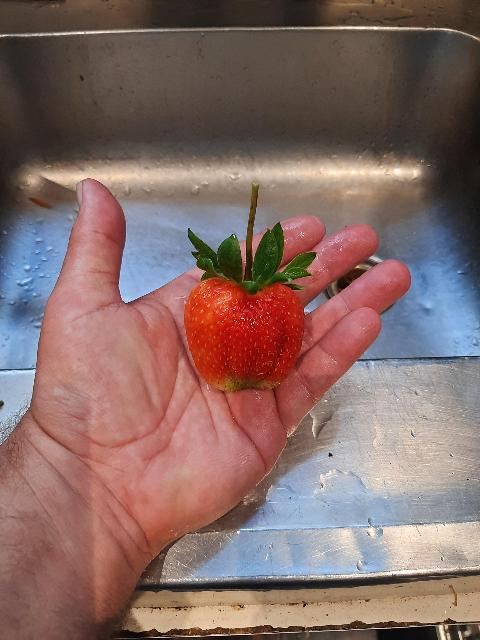Strawberries: (182, 237, 306, 391)
